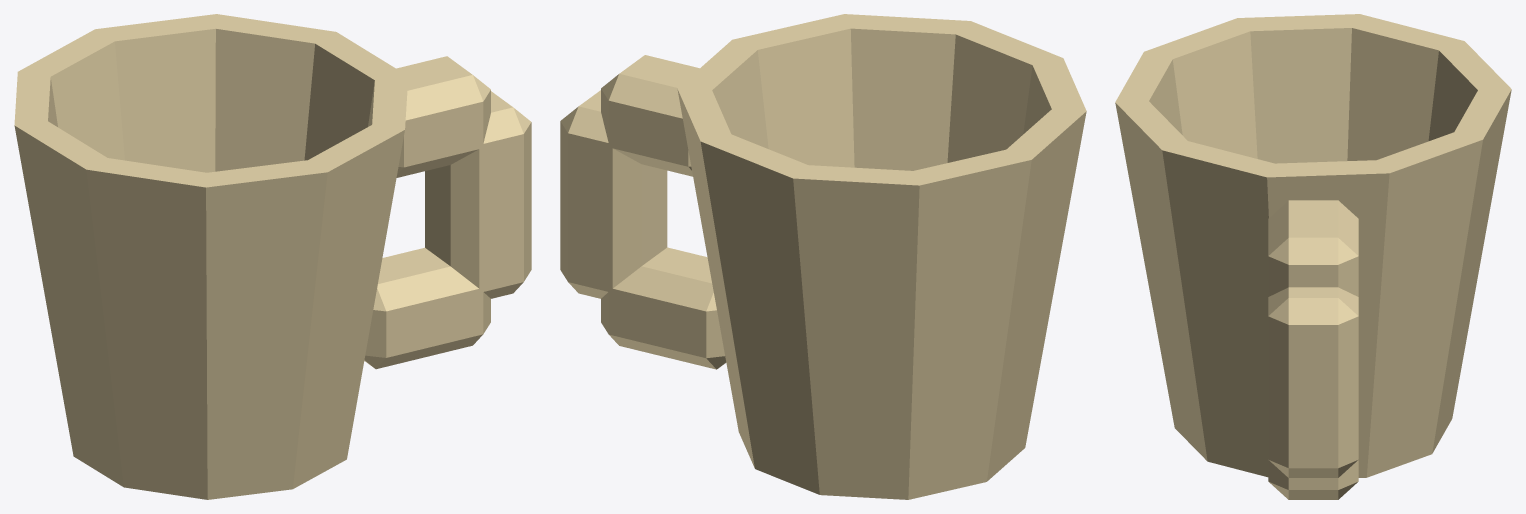
The model's file is cup.glb.
The picture shows the model from 3 angles, left to right: view 1: azimuth 30°, elevation 25°; view 2: azimuth 150°, elevation 25°; view 3: azimuth 270°, elevation 25°; orthographic projection. The views are drawn at different scales.
Visible parts, largest first — view 1: Cup, Handle_001, Handle_002, Handle; view 2: Cup, Handle_001, Handle_002, Handle; view 3: Cup, Handle_001, Handle, Handle_002.
Part boxes in pixels (<box>): Cup: <box>14,14,408,499</box>; Handle_001: <box>425,91,531,298</box>; Handle_002: <box>364,247,490,369</box>; Handle: <box>396,56,490,177</box>; Cup: <box>677,14,1086,499</box>; Handle_001: <box>560,90,667,298</box>; Handle_002: <box>601,247,726,369</box>; Handle: <box>601,55,699,176</box>; Cup: <box>1115,14,1511,477</box>; Handle_001: <box>1268,287,1358,477</box>; Handle: <box>1268,200,1358,296</box>; Handle_002: <box>1268,460,1358,499</box>.
Size of the model in its own units: 0.1485 by 0.1 by 0.1097.
